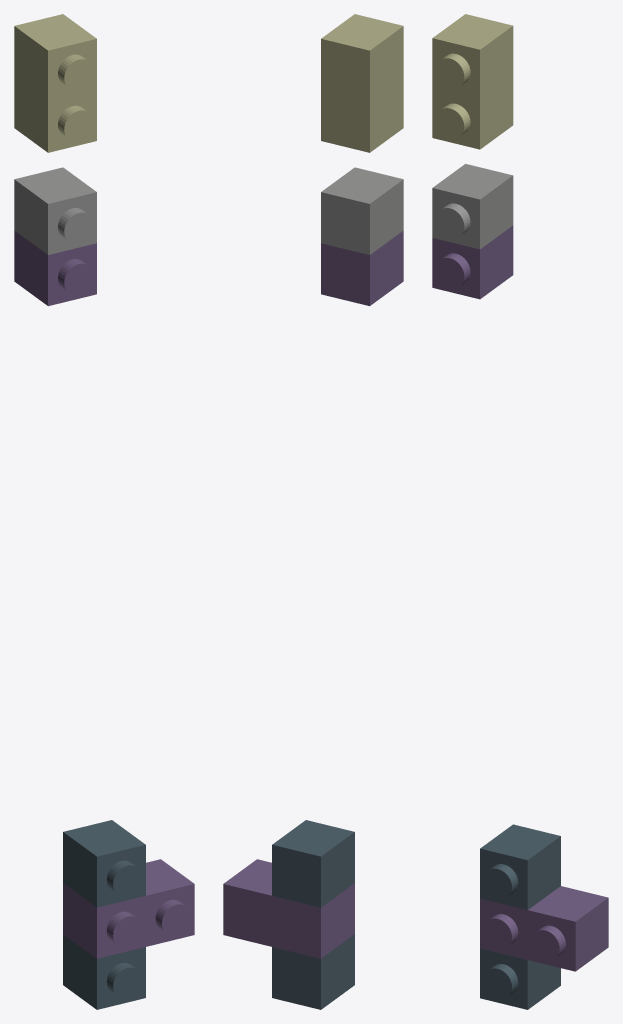
File: current.glb
The picture shows the model from 3 angles, left to right: view 1: azimuth 30°, elevation 25°; view 2: azimuth 150°, elevation 25°; view 3: azimuth 330°, elevation 25°; orthographic projection. The views are drawn at different scales.
Visible parts, largest first — view 1: world; view 2: world; view 3: world.
Part boxes in pixels (box(x1,y1,x2,y2)): world: box(14, 14, 194, 1009); world: box(223, 14, 403, 1009); world: box(432, 14, 608, 1009).
Bounding box in the file's own units: 24 × 152 × 11.4.
